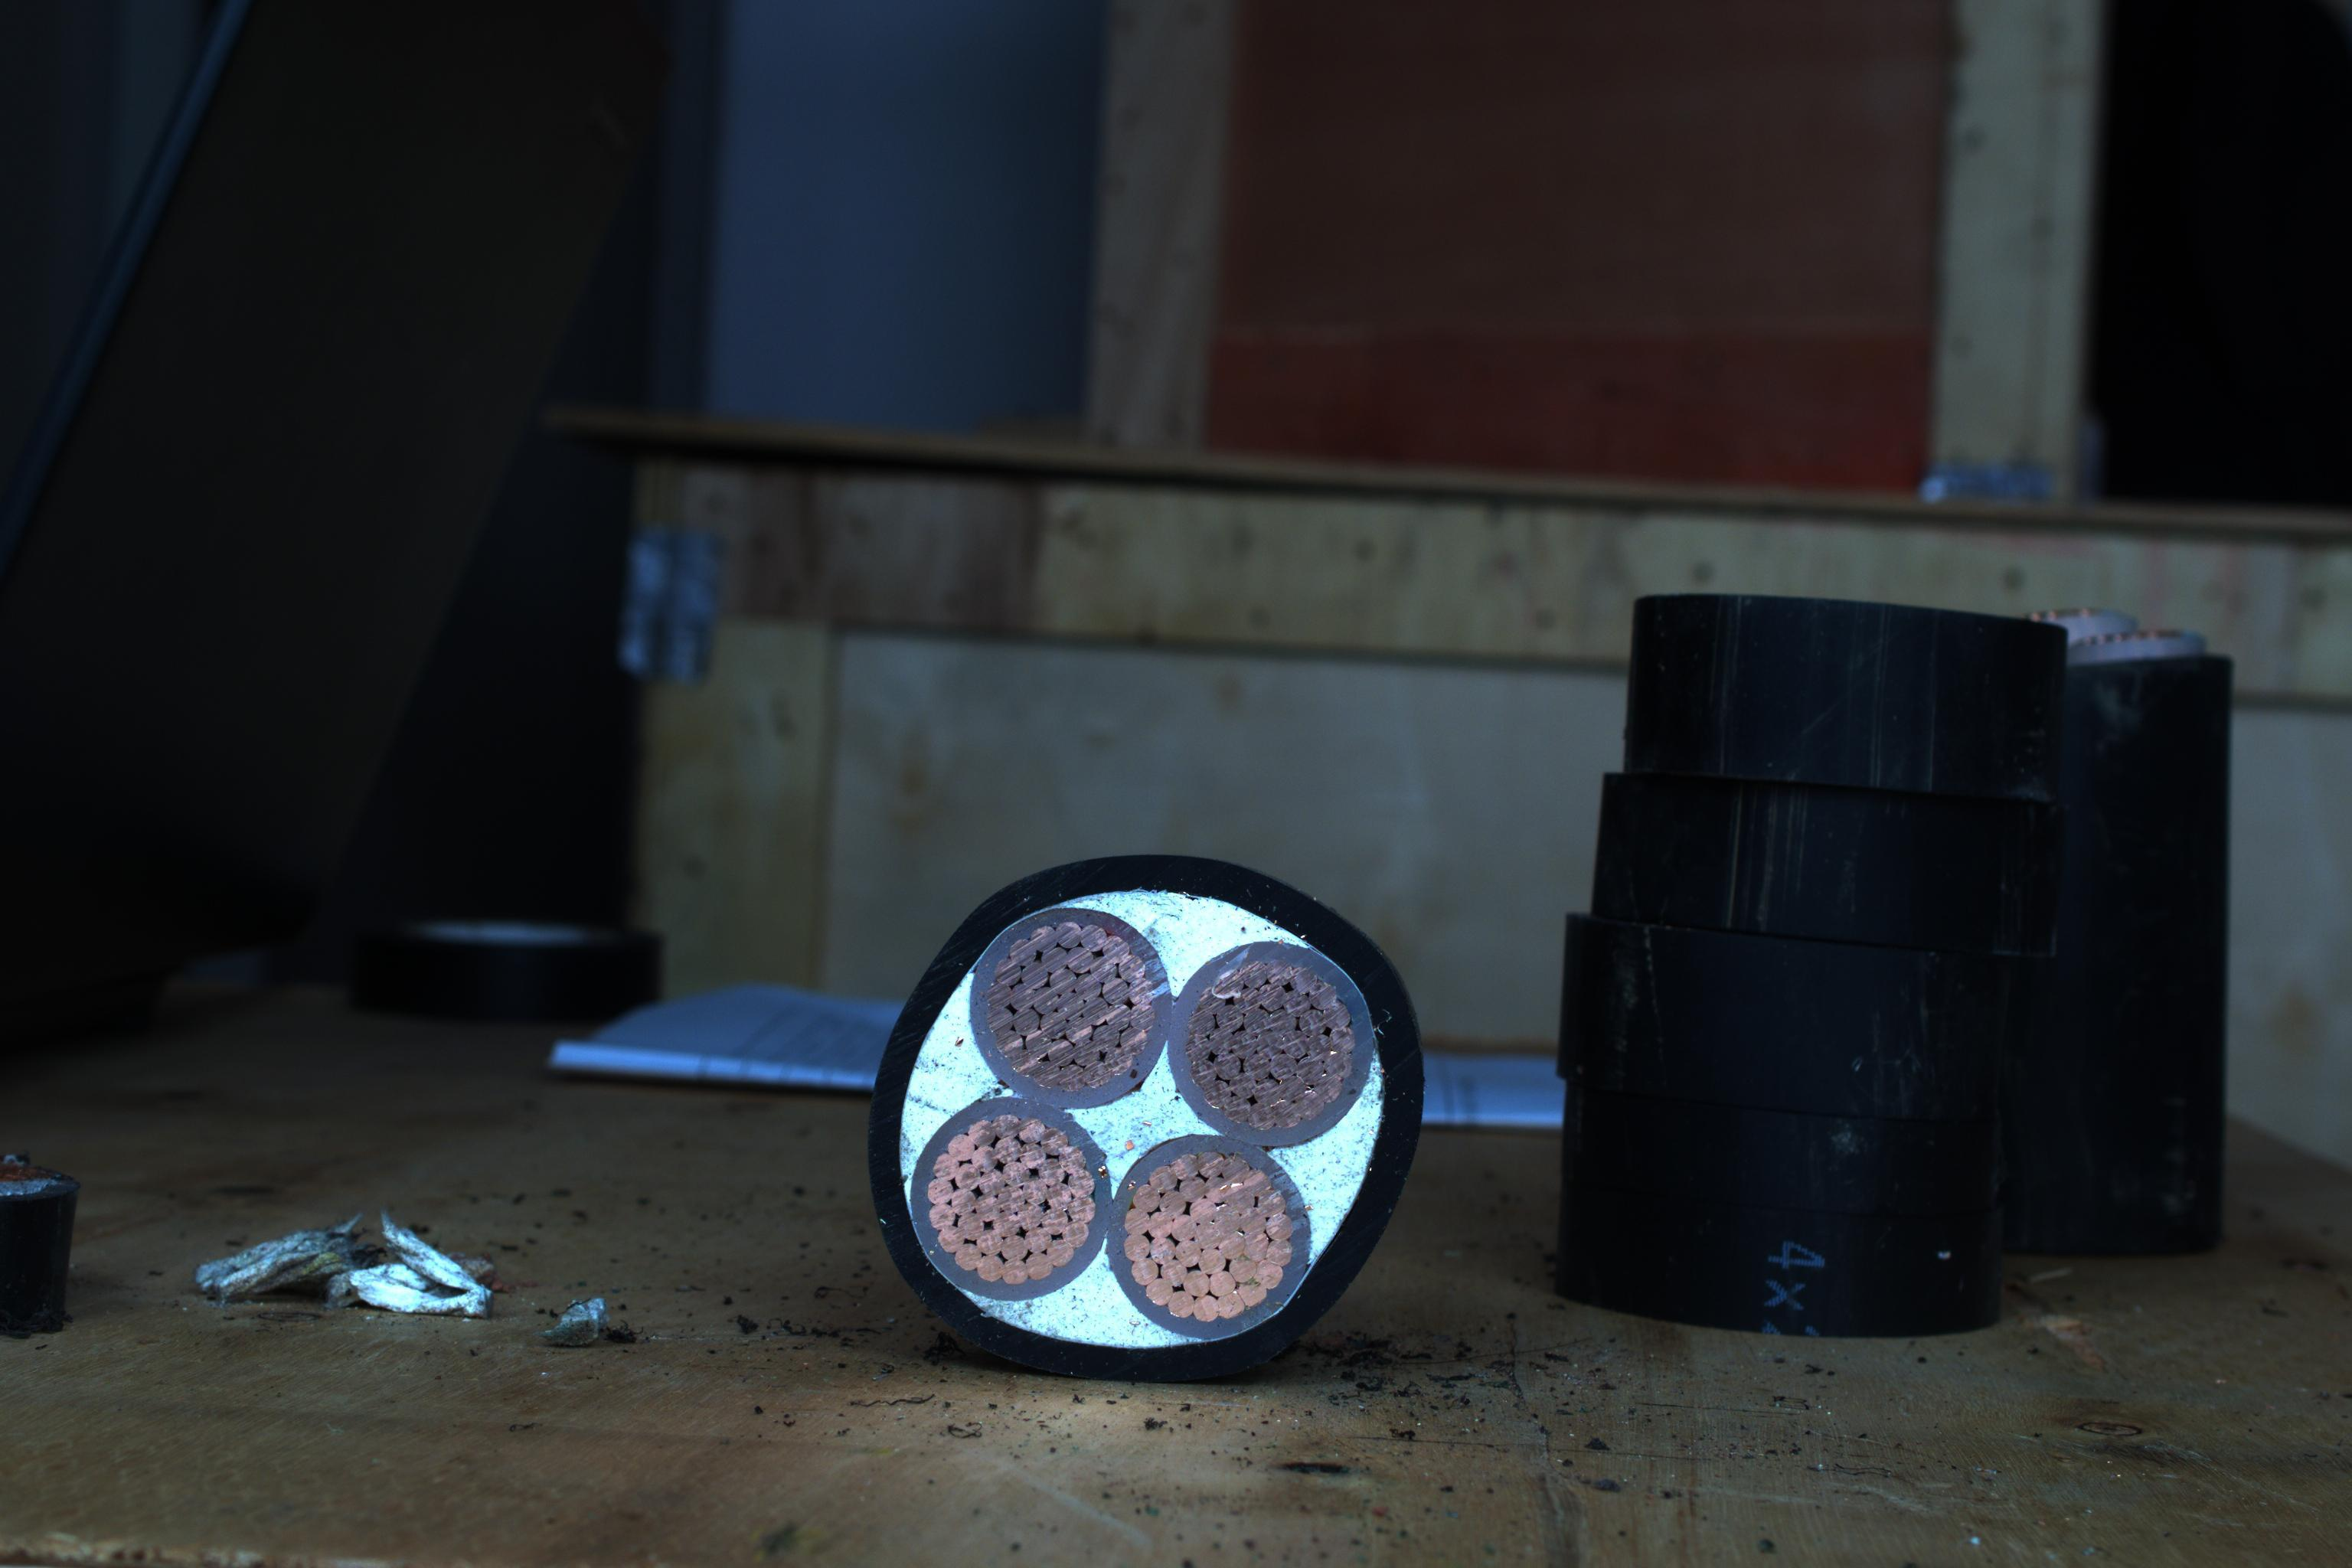YJV_0.6_1kV_4x240: (864, 864, 1414, 1363)
